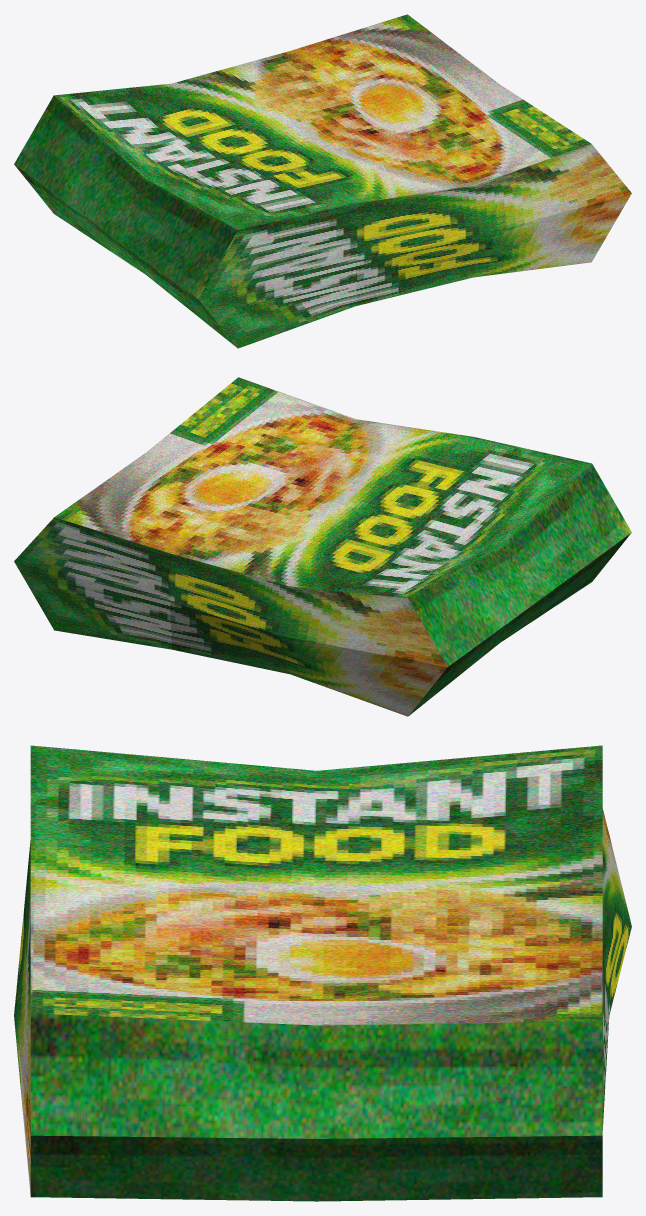
Rendered from instant_food.glb.
The picture shows the model from 3 angles, top to bottom: view 1: azimuth 30°, elevation 25°; view 2: azimuth 150°, elevation 25°; view 3: azimuth 270°, elevation 25°; orthographic projection. The views are drawn at different scales.
Visible parts, largest first — view 1: ramen02; view 2: ramen02; view 3: ramen02.
Part boxes in pixels (box(x1,y1,x2,y2)): ramen02: box(14, 14, 631, 348); ramen02: box(14, 377, 631, 716); ramen02: box(14, 745, 631, 1201).
Bounding box in the file's own units: 0.2866 × 0.0758 × 0.2256.
1 material, 1 textured.
